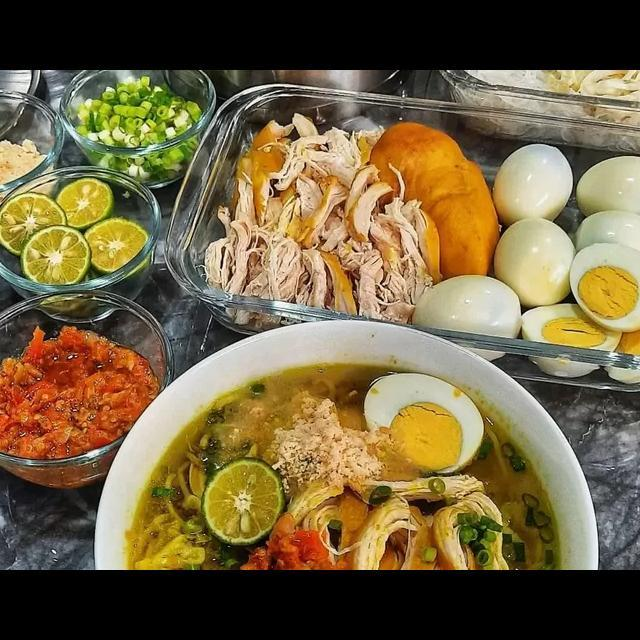Soto: (142, 350, 564, 601)
